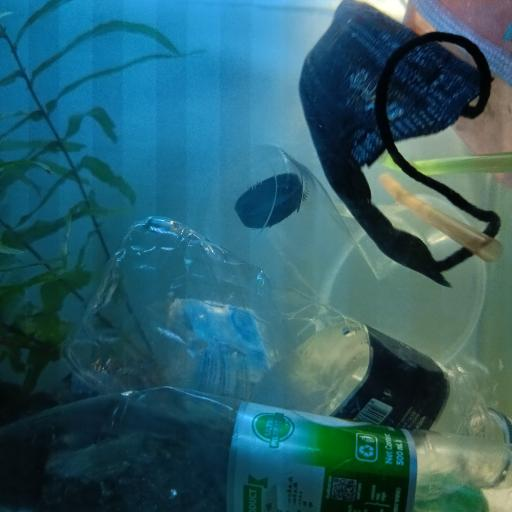bottle_cap: (236, 173, 302, 231)
mask: (298, 0, 501, 288), (399, 0, 512, 189)
plastic_bottle: (66, 215, 512, 487), (1, 384, 512, 512), (71, 302, 491, 435)
plastic_cup: (196, 141, 486, 356)
plastic_straw: (378, 172, 503, 264), (387, 152, 512, 177)
